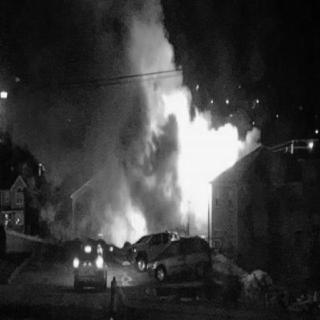Fire: (157, 80, 241, 222), (106, 198, 148, 240)
